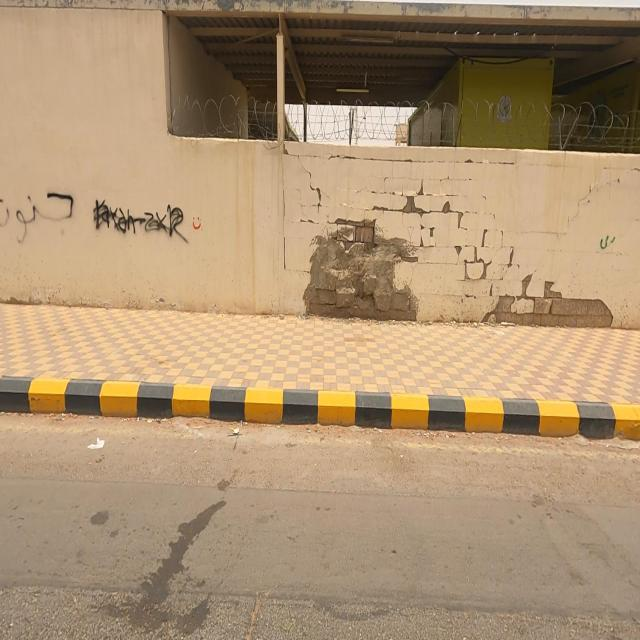Graffiti: (93, 198, 189, 246), (1, 191, 78, 243), (601, 235, 617, 250), (193, 215, 203, 232)
